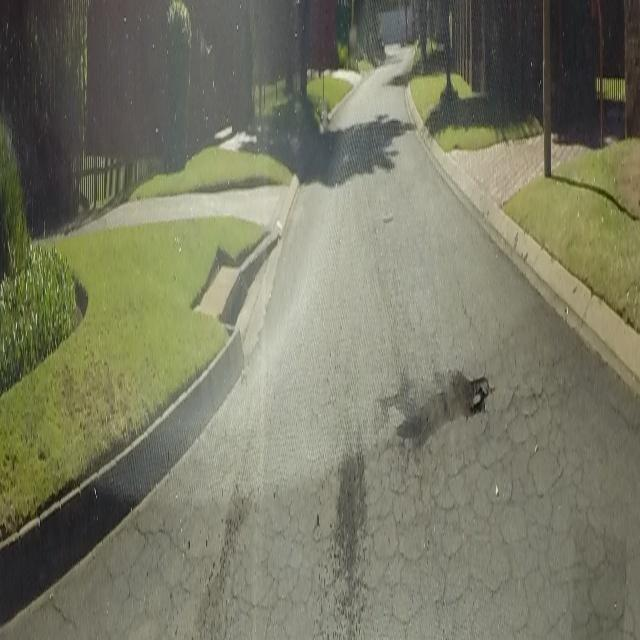pothole: (377, 356, 493, 454), (382, 208, 394, 225)
